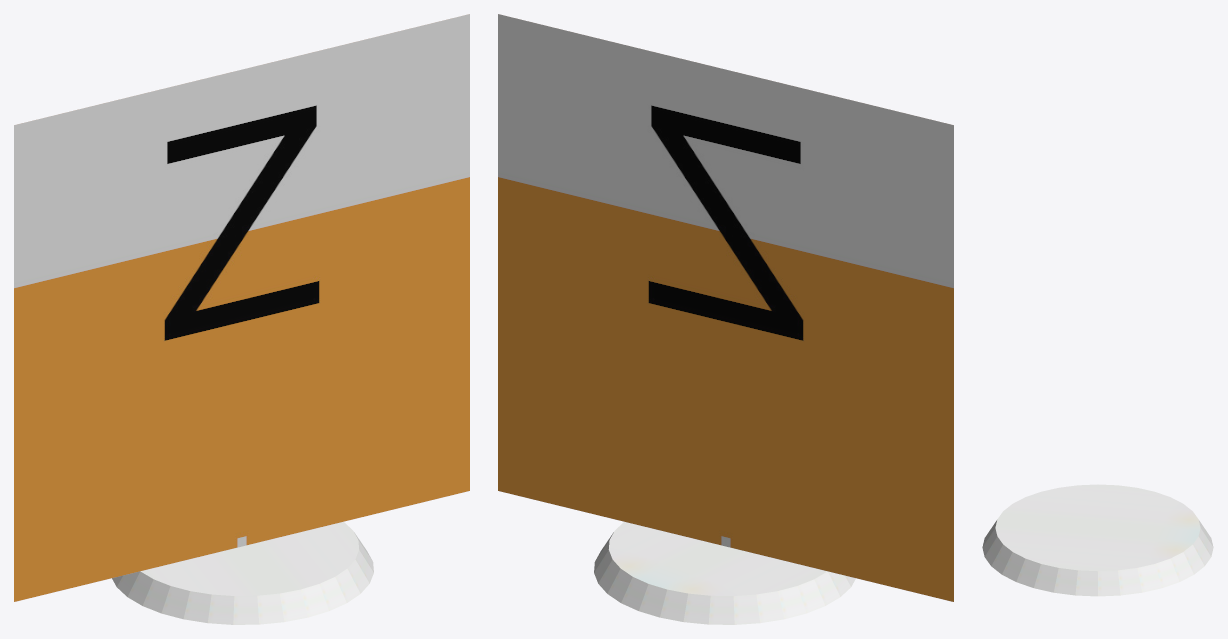
The picture shows the model from 3 angles, left to right: view 1: azimuth 30°, elevation 25°; view 2: azimuth 150°, elevation 25°; view 3: azimuth 270°, elevation 25°; orthographic projection. The views are drawn at different scales.
Parts seen in each view (by area): view 1: face-inv, face, base25m; view 2: face-inv, face, base25m; view 3: base25m.
Part boxes in pixels (x1,y1,x2,y2): face-inv: [14, 14, 469, 601]; face: [15, 14, 469, 601]; base25m: [112, 522, 373, 624]; face-inv: [498, 14, 953, 601]; face: [498, 14, 953, 601]; base25m: [594, 522, 855, 624]; base25m: [982, 484, 1213, 596].
Bounding box in the file's own units: 1.86 × 1.95 × 0.9344.
